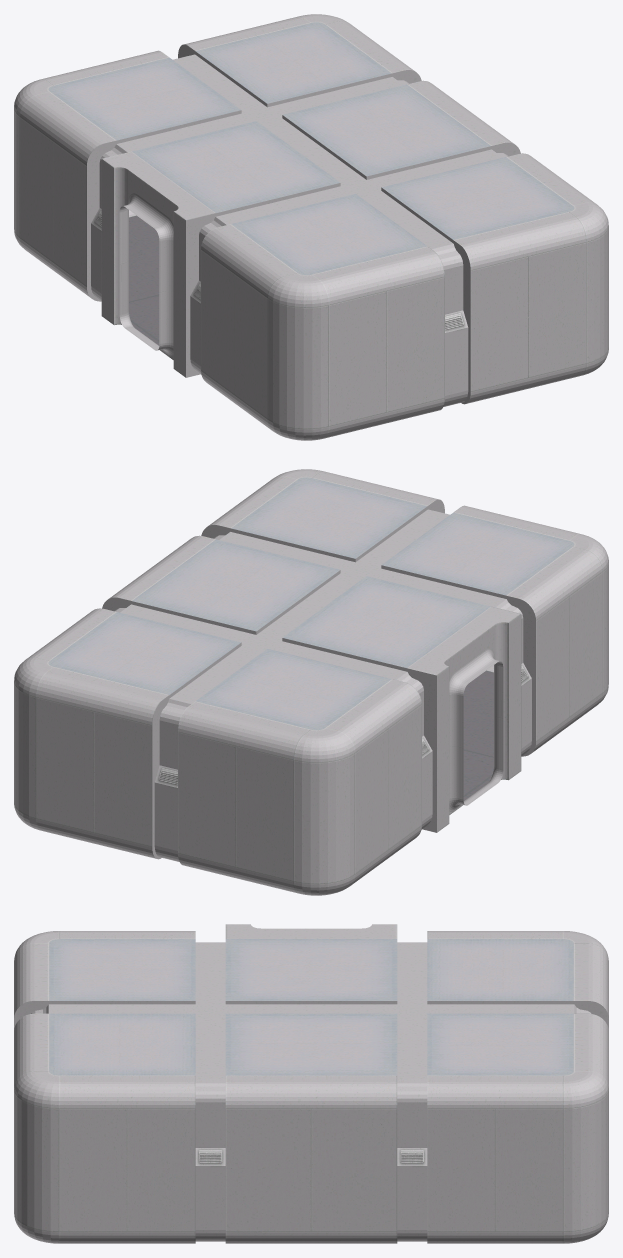
Rendered from thm_spc_corvette_dungeon_r21_vipquarters21_mesh_r21.fbx.
The picture shows the model from 3 angles, top to bottom: view 1: azimuth 30°, elevation 25°; view 2: azimuth 150°, elevation 25°; view 3: azimuth 270°, elevation 25°; orthographic projection.
Visible parts, largest first — view 1: mesh_node; view 2: mesh_node; view 3: mesh_node.
Boxes of the visible parts, x1,y1,x2,y2 form: mesh_node: (14, 14, 608, 440); mesh_node: (14, 469, 608, 895); mesh_node: (14, 924, 608, 1243).
Bounding box in the file's own units: 7.9 × 3.5 × 11.8.
